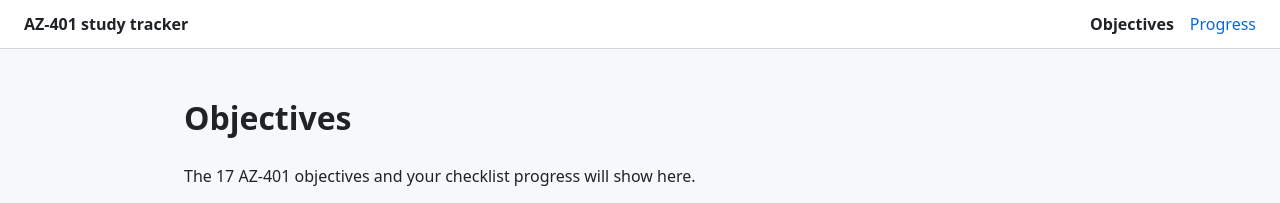
routes › navigates to the progress page from the navigation
Click the link "Progress" at [1223, 24], box [1190,13,1256,35]
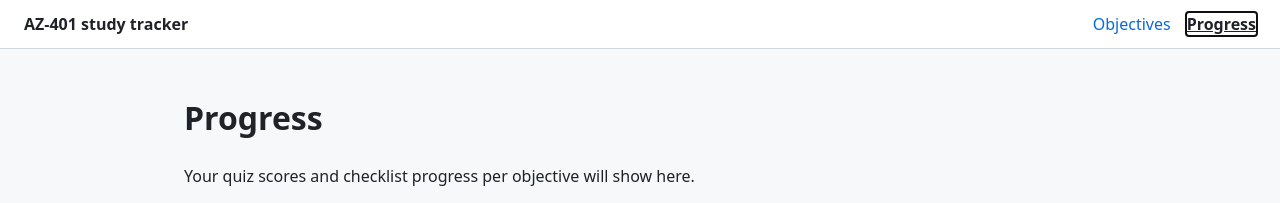
expect the heading "Progress" is shown: met, box [184,96,323,139]
